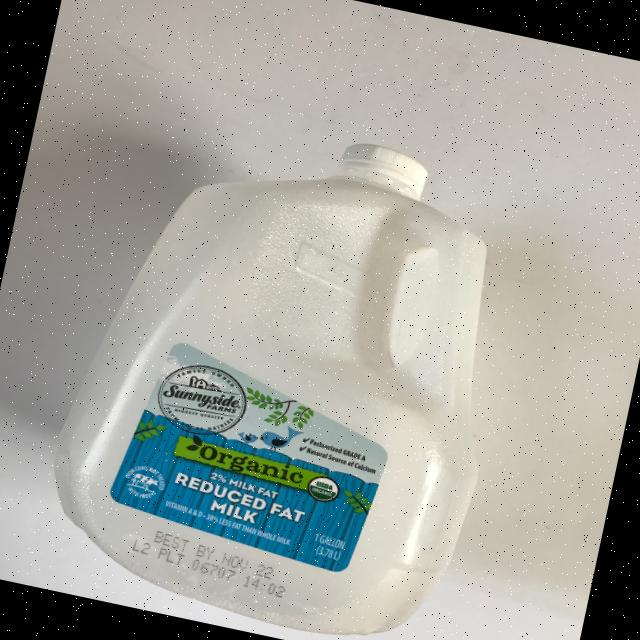plastic: (27, 91, 541, 640)
